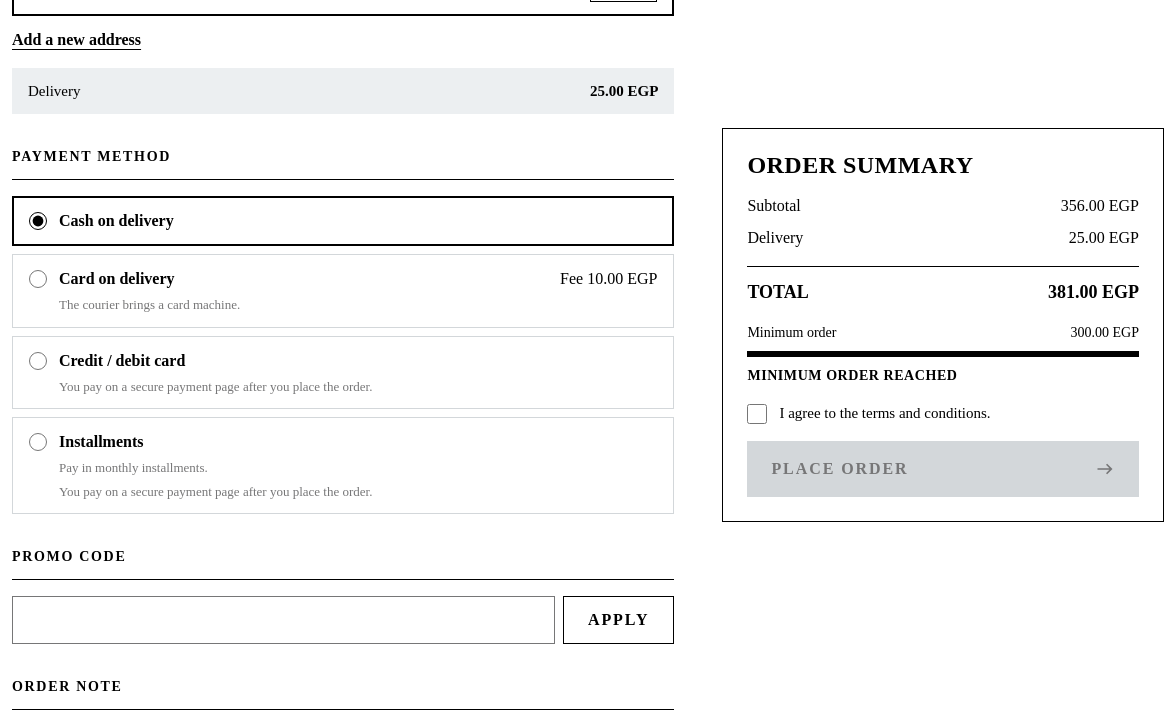
CheckoutView: changing a choice › shows the choice the backend answered, not the one that was clicked, when they differ
(page scrolled)
Click the 3rd radio button.
click(38, 360)  # box top-left (29, 352), bottom-right (47, 370)
(page scrolled)
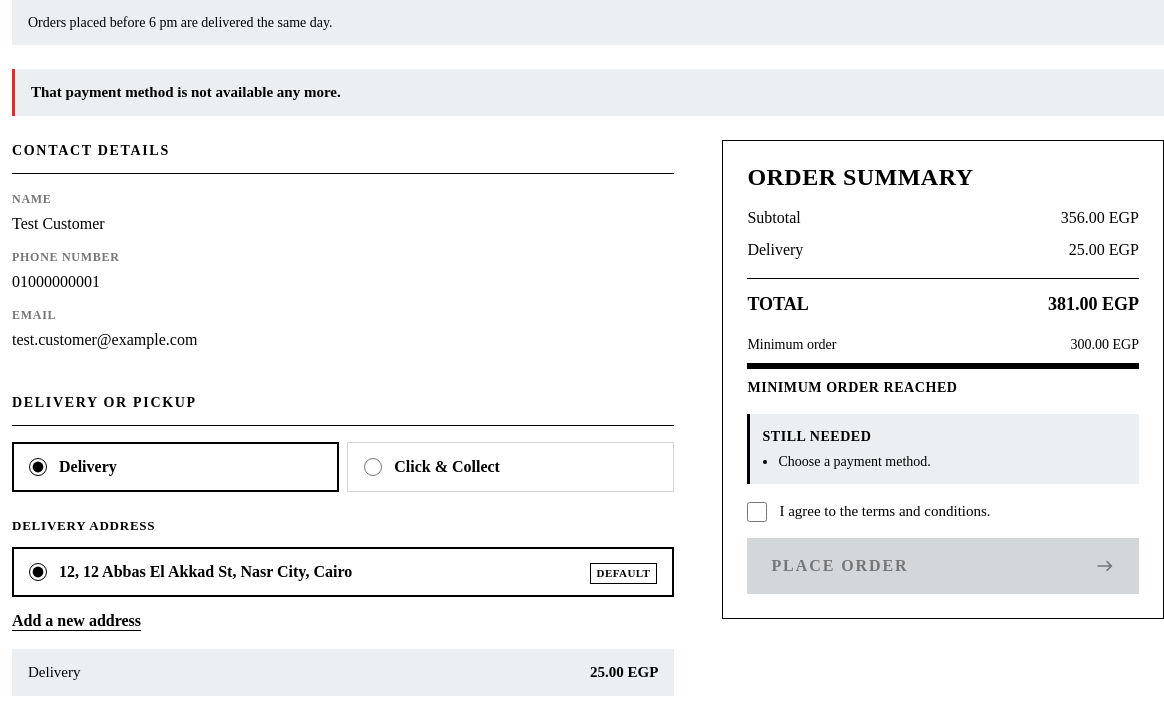
Expected: the message with test id "checkout-messages" reads "That payment method is not available any more.", top-left (31, 84), bottom-right (341, 100)
Expected: the element with test id "checkout-missing" shows "Choose a payment method.", top-left (778, 454), bottom-right (931, 469)
